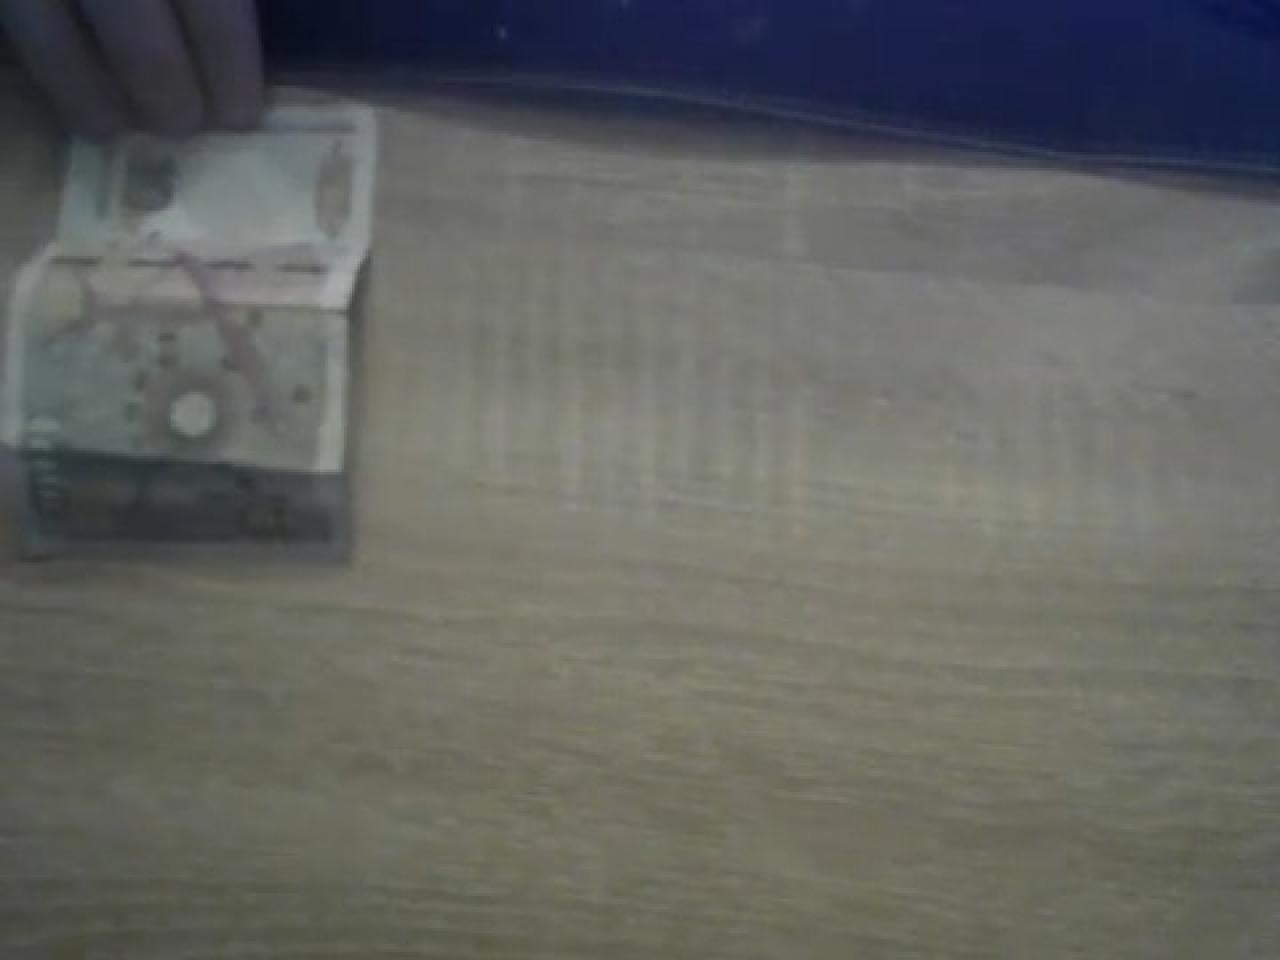10leva: (0, 96, 379, 560)
